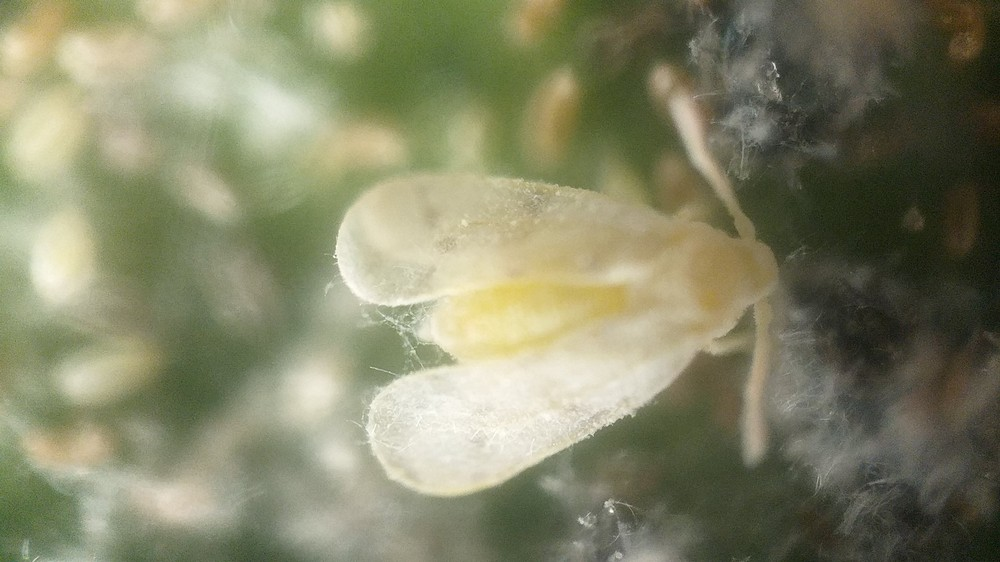Mosca Blanca: (323, 77, 803, 533)
